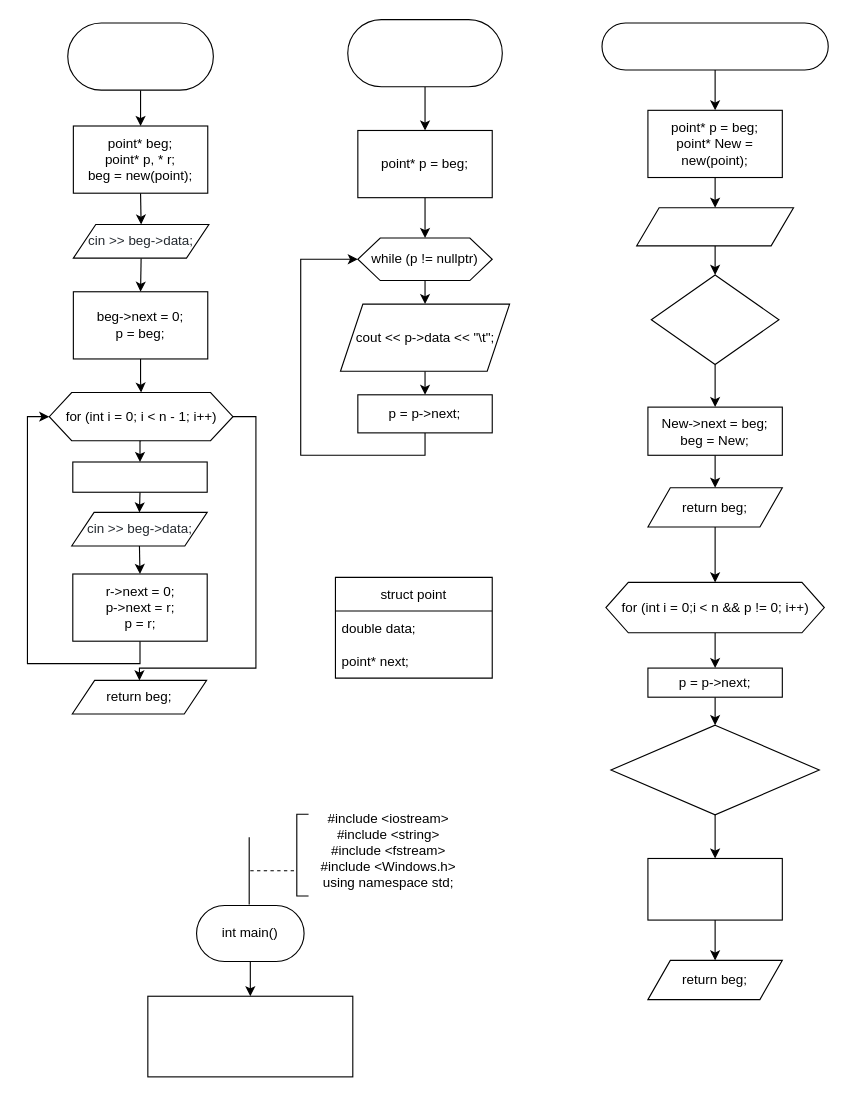
Image size: 848x1096. Some labels were removed from this diagram. Each missing label, with the centre of its shape:
"cin >> New->data;" belongs at [715,226].
"if (p != nullptr && p->data < 0)" belongs at [714,769].
"if (p->data < 0)" belongs at [714,319].
"int n = 10; point* beg = make_list(n); add_point(beg,n); print_list(beg);" belongs at [250,1036].
"New->next = p->next; p->next = New;" belongs at [714,888].
"point* add_point(point* beg, int n)" belongs at [714,46].
"point* make_list ( int n)" belongs at [140,56].
"r = new(point);" belongs at [139,476].
"void print_list(point* beg)" belongs at [424,52].
